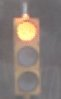Red: (5, 9, 51, 97)
